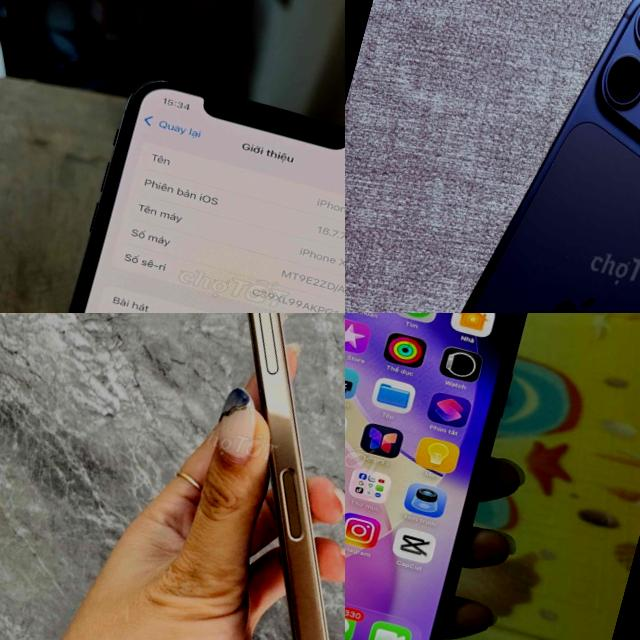gen_11: (345, 313, 526, 640)
gen_16: (91, 313, 345, 640)
gen_17: (379, 0, 640, 313)
gen_x_xs: (12, 65, 345, 313)
scratch: (120, 82, 153, 110)
